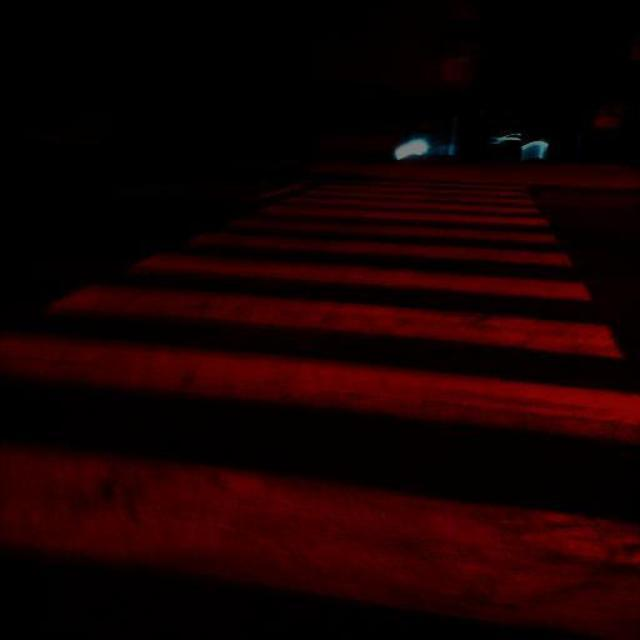sidewalk: (2, 174, 640, 633)
